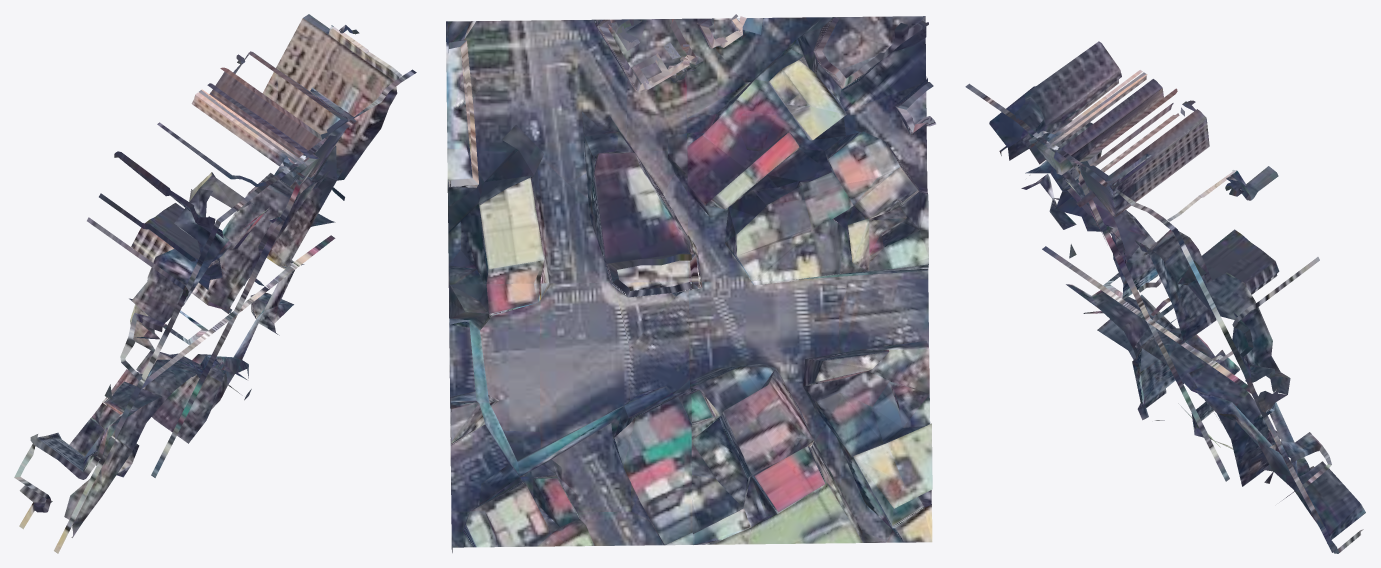
3 renders of one model, left to right at view 1: azimuth 30°, elevation 25°; view 2: azimuth 150°, elevation 25°; view 3: azimuth 270°, elevation 25°, orthographic. The views are drawn at different scales.
Size of the model in its own units: 160 by 158 by 139.
Materials: 1 (1 with a texture image).
